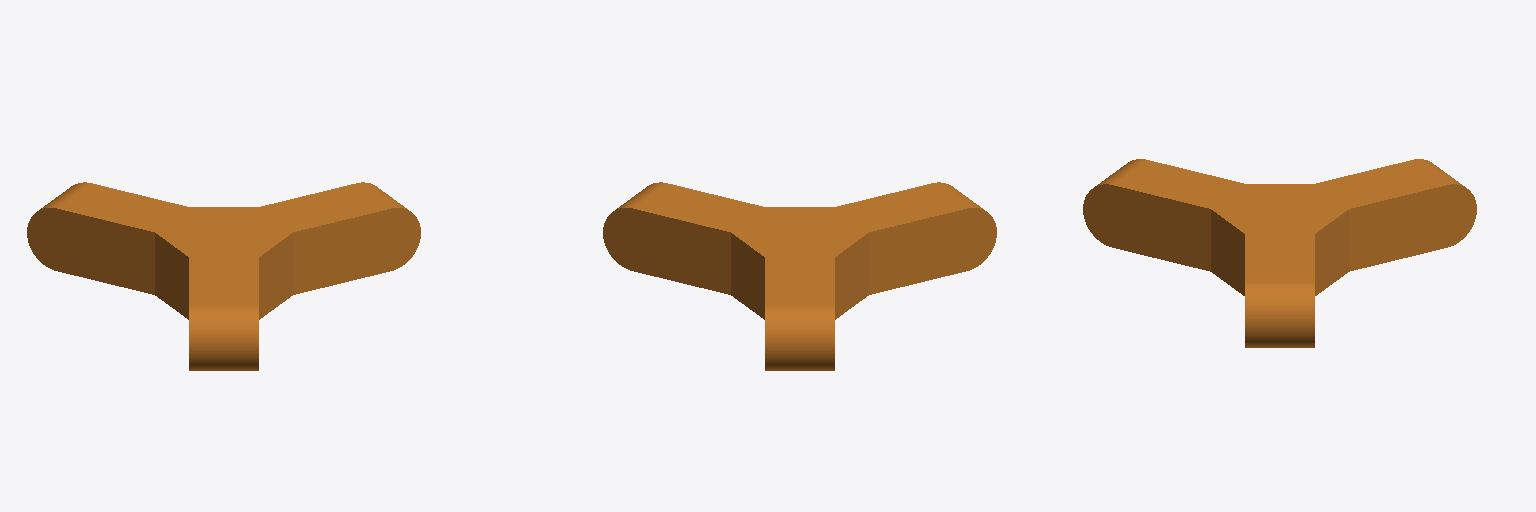
The model's file is platform.obj.
3 renders of one model, left to right at view 1: azimuth 30°, elevation 25°; view 2: azimuth 150°, elevation 25°; view 3: azimuth 270°, elevation 25°, orthographic.
Visible parts, largest first — view 1: platform; view 2: platform; view 3: platform.
Boxes of the visible parts, x1,y1,x2,y2 form: platform: [27, 182, 420, 370]; platform: [603, 182, 996, 370]; platform: [1083, 159, 1476, 347].
Size of the model in its own units: 247 by 50 by 285.